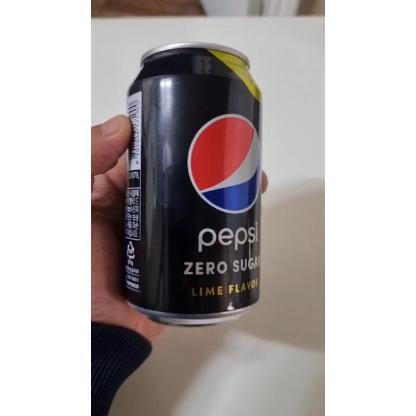Can: (122, 43, 260, 326)
